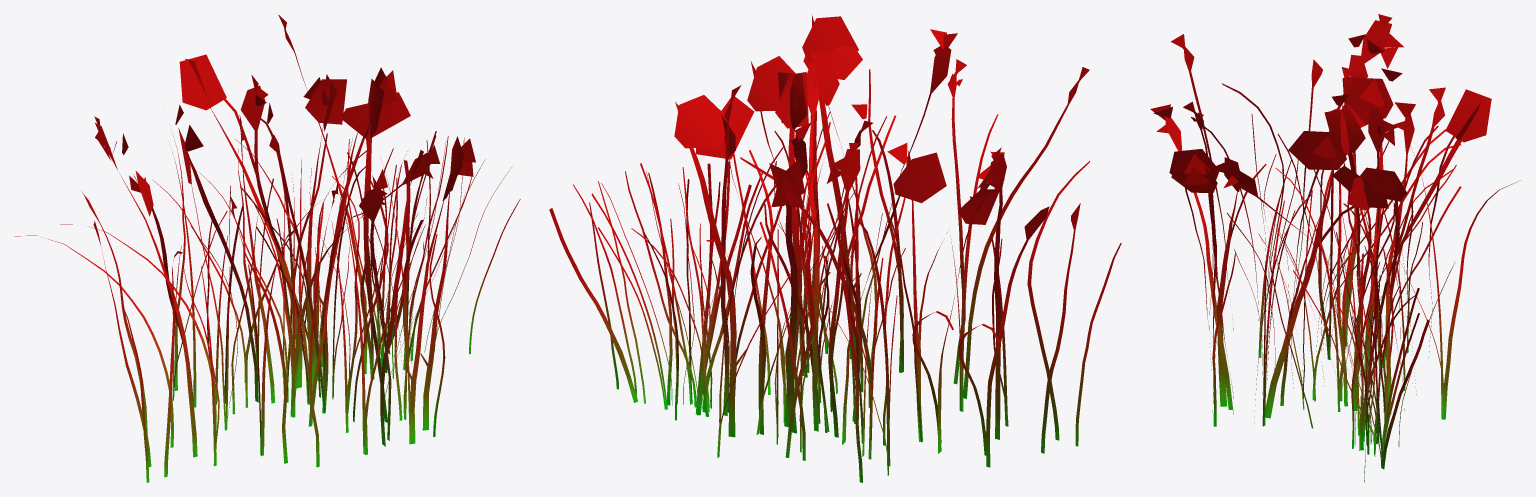
Rendered from Softstem Bulrush_LOD1_Var9_uehjcafia.fbx.
3 views of the same model, side by side, from view 1: azimuth 30°, elevation 25°; view 2: azimuth 150°, elevation 25°; view 3: azimuth 270°, elevation 25° (orthographic). The views are drawn at different scales.
Parts seen in each view (by area): view 1: _9255_Var9_LOD1; view 2: _9255_Var9_LOD1; view 3: _9255_Var9_LOD1.
Part boxes in pixels (x1,y1,x2,y2): _9255_Var9_LOD1: [14, 14, 520, 482]; _9255_Var9_LOD1: [549, 14, 1121, 482]; _9255_Var9_LOD1: [1150, 14, 1520, 482].
Bounding box in the file's own units: 290 × 214 × 220.
